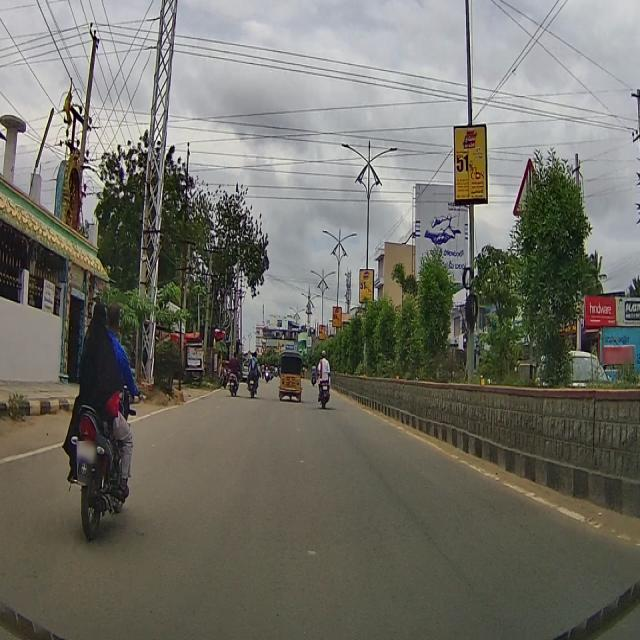gap-in-median: (515, 160, 542, 215)
